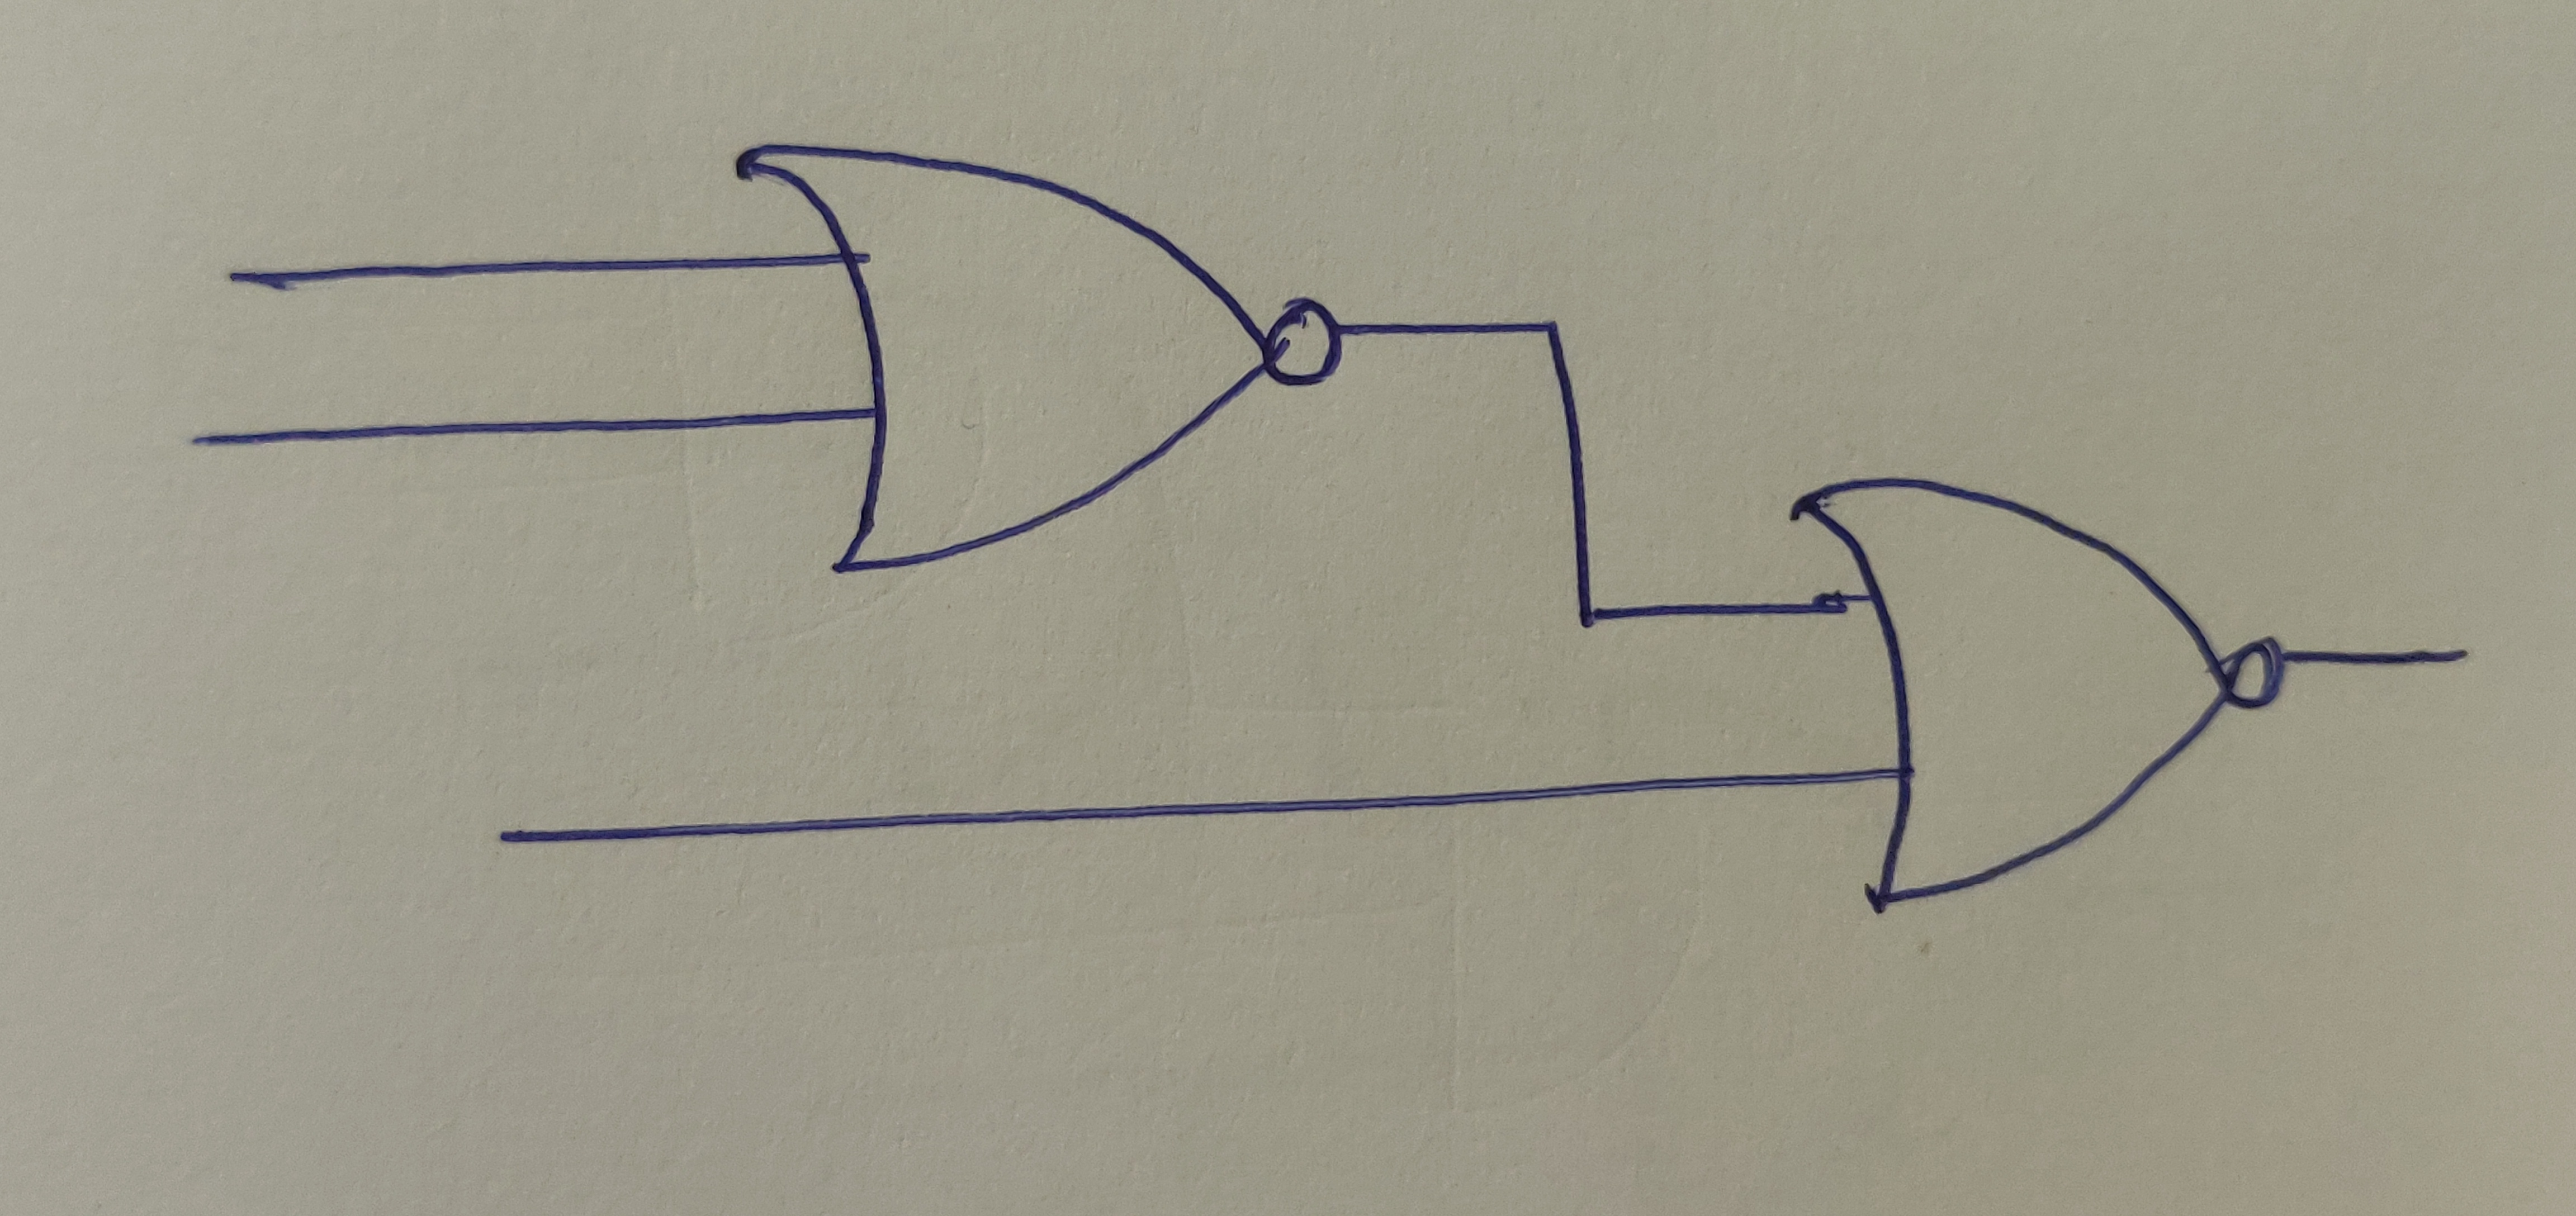not: (1270, 311, 1339, 386), (2228, 644, 2290, 708)
or: (733, 141, 1273, 572), (1792, 485, 2224, 897)
